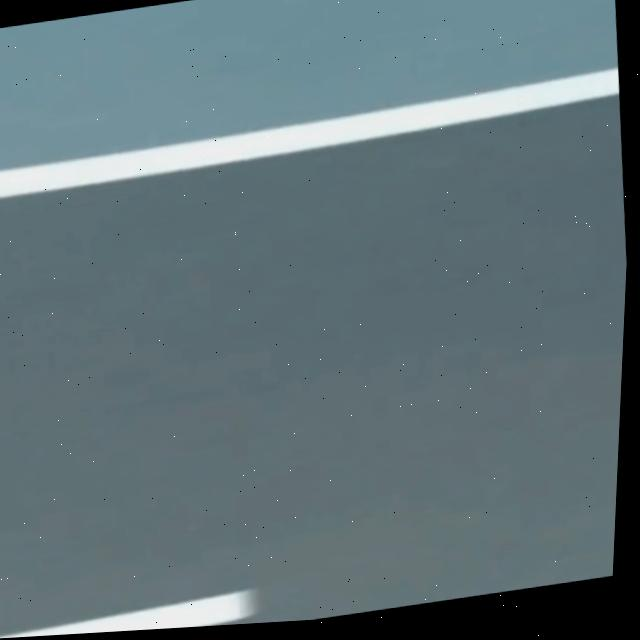center: (0, 589, 255, 638)
left: (0, 66, 619, 196)
